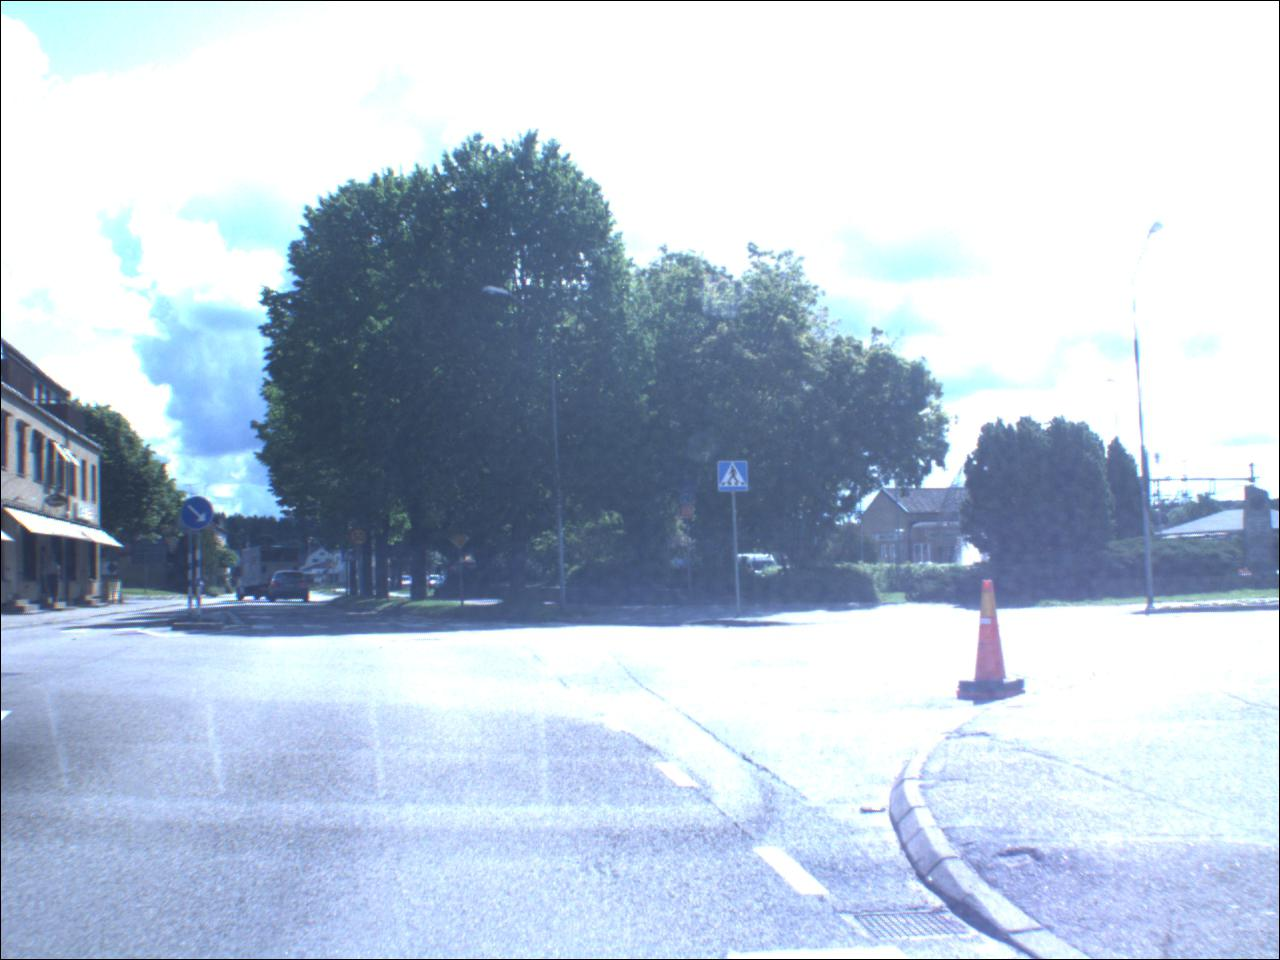50_SIGN: (352, 529, 372, 546)
PASS_RIGHT_SIDE: (183, 498, 217, 531)
PEDESTRIAN_CROSSING: (719, 462, 750, 495), (344, 550, 356, 564)
PRIORITY_ROAD: (450, 530, 473, 549)
